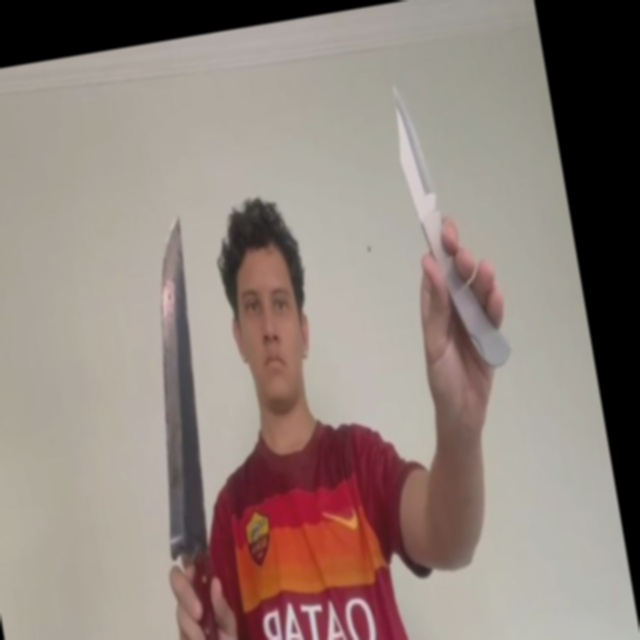Sharp-Object: (114, 216, 236, 560), (389, 79, 439, 217)
